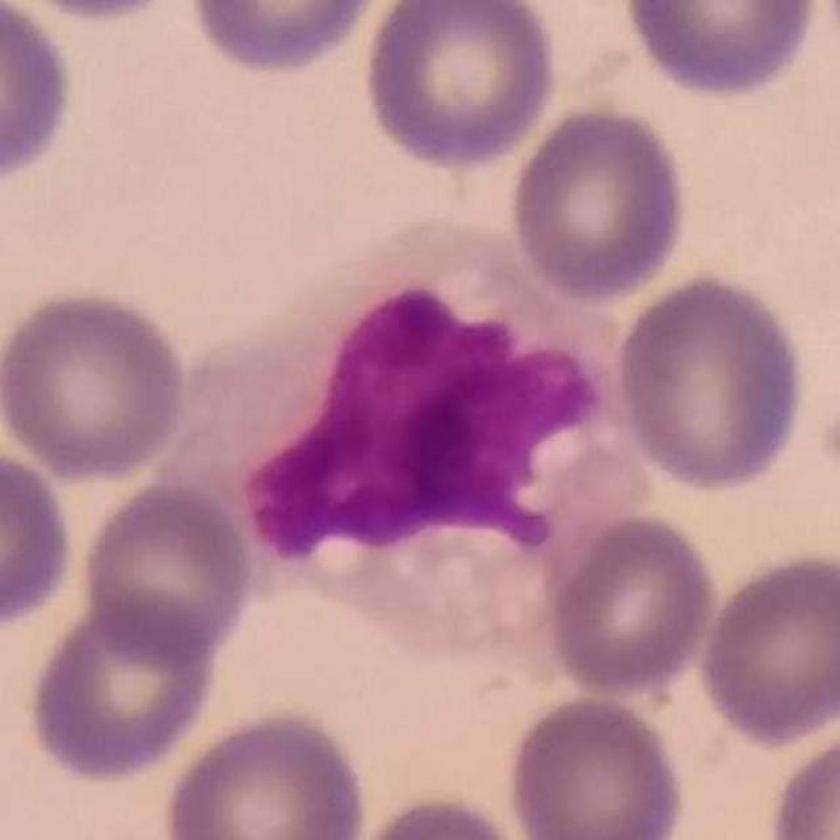monocyte: (151, 214, 657, 661)
